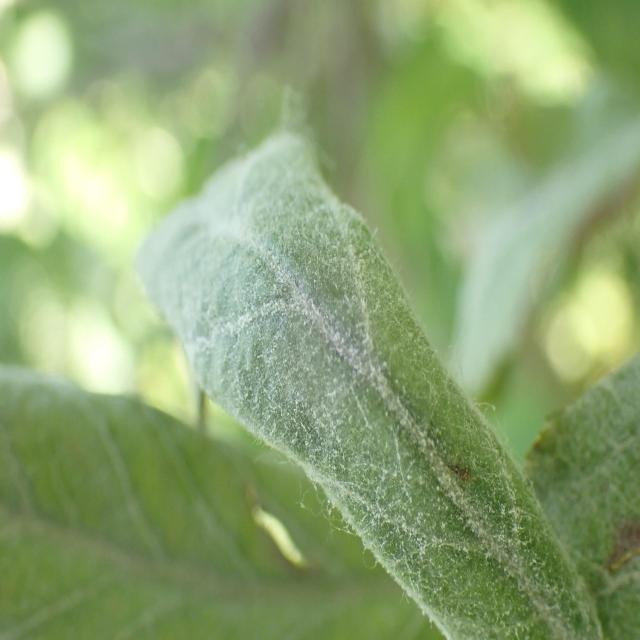Powdery_mildew: (130, 121, 602, 635), (518, 338, 640, 640)
